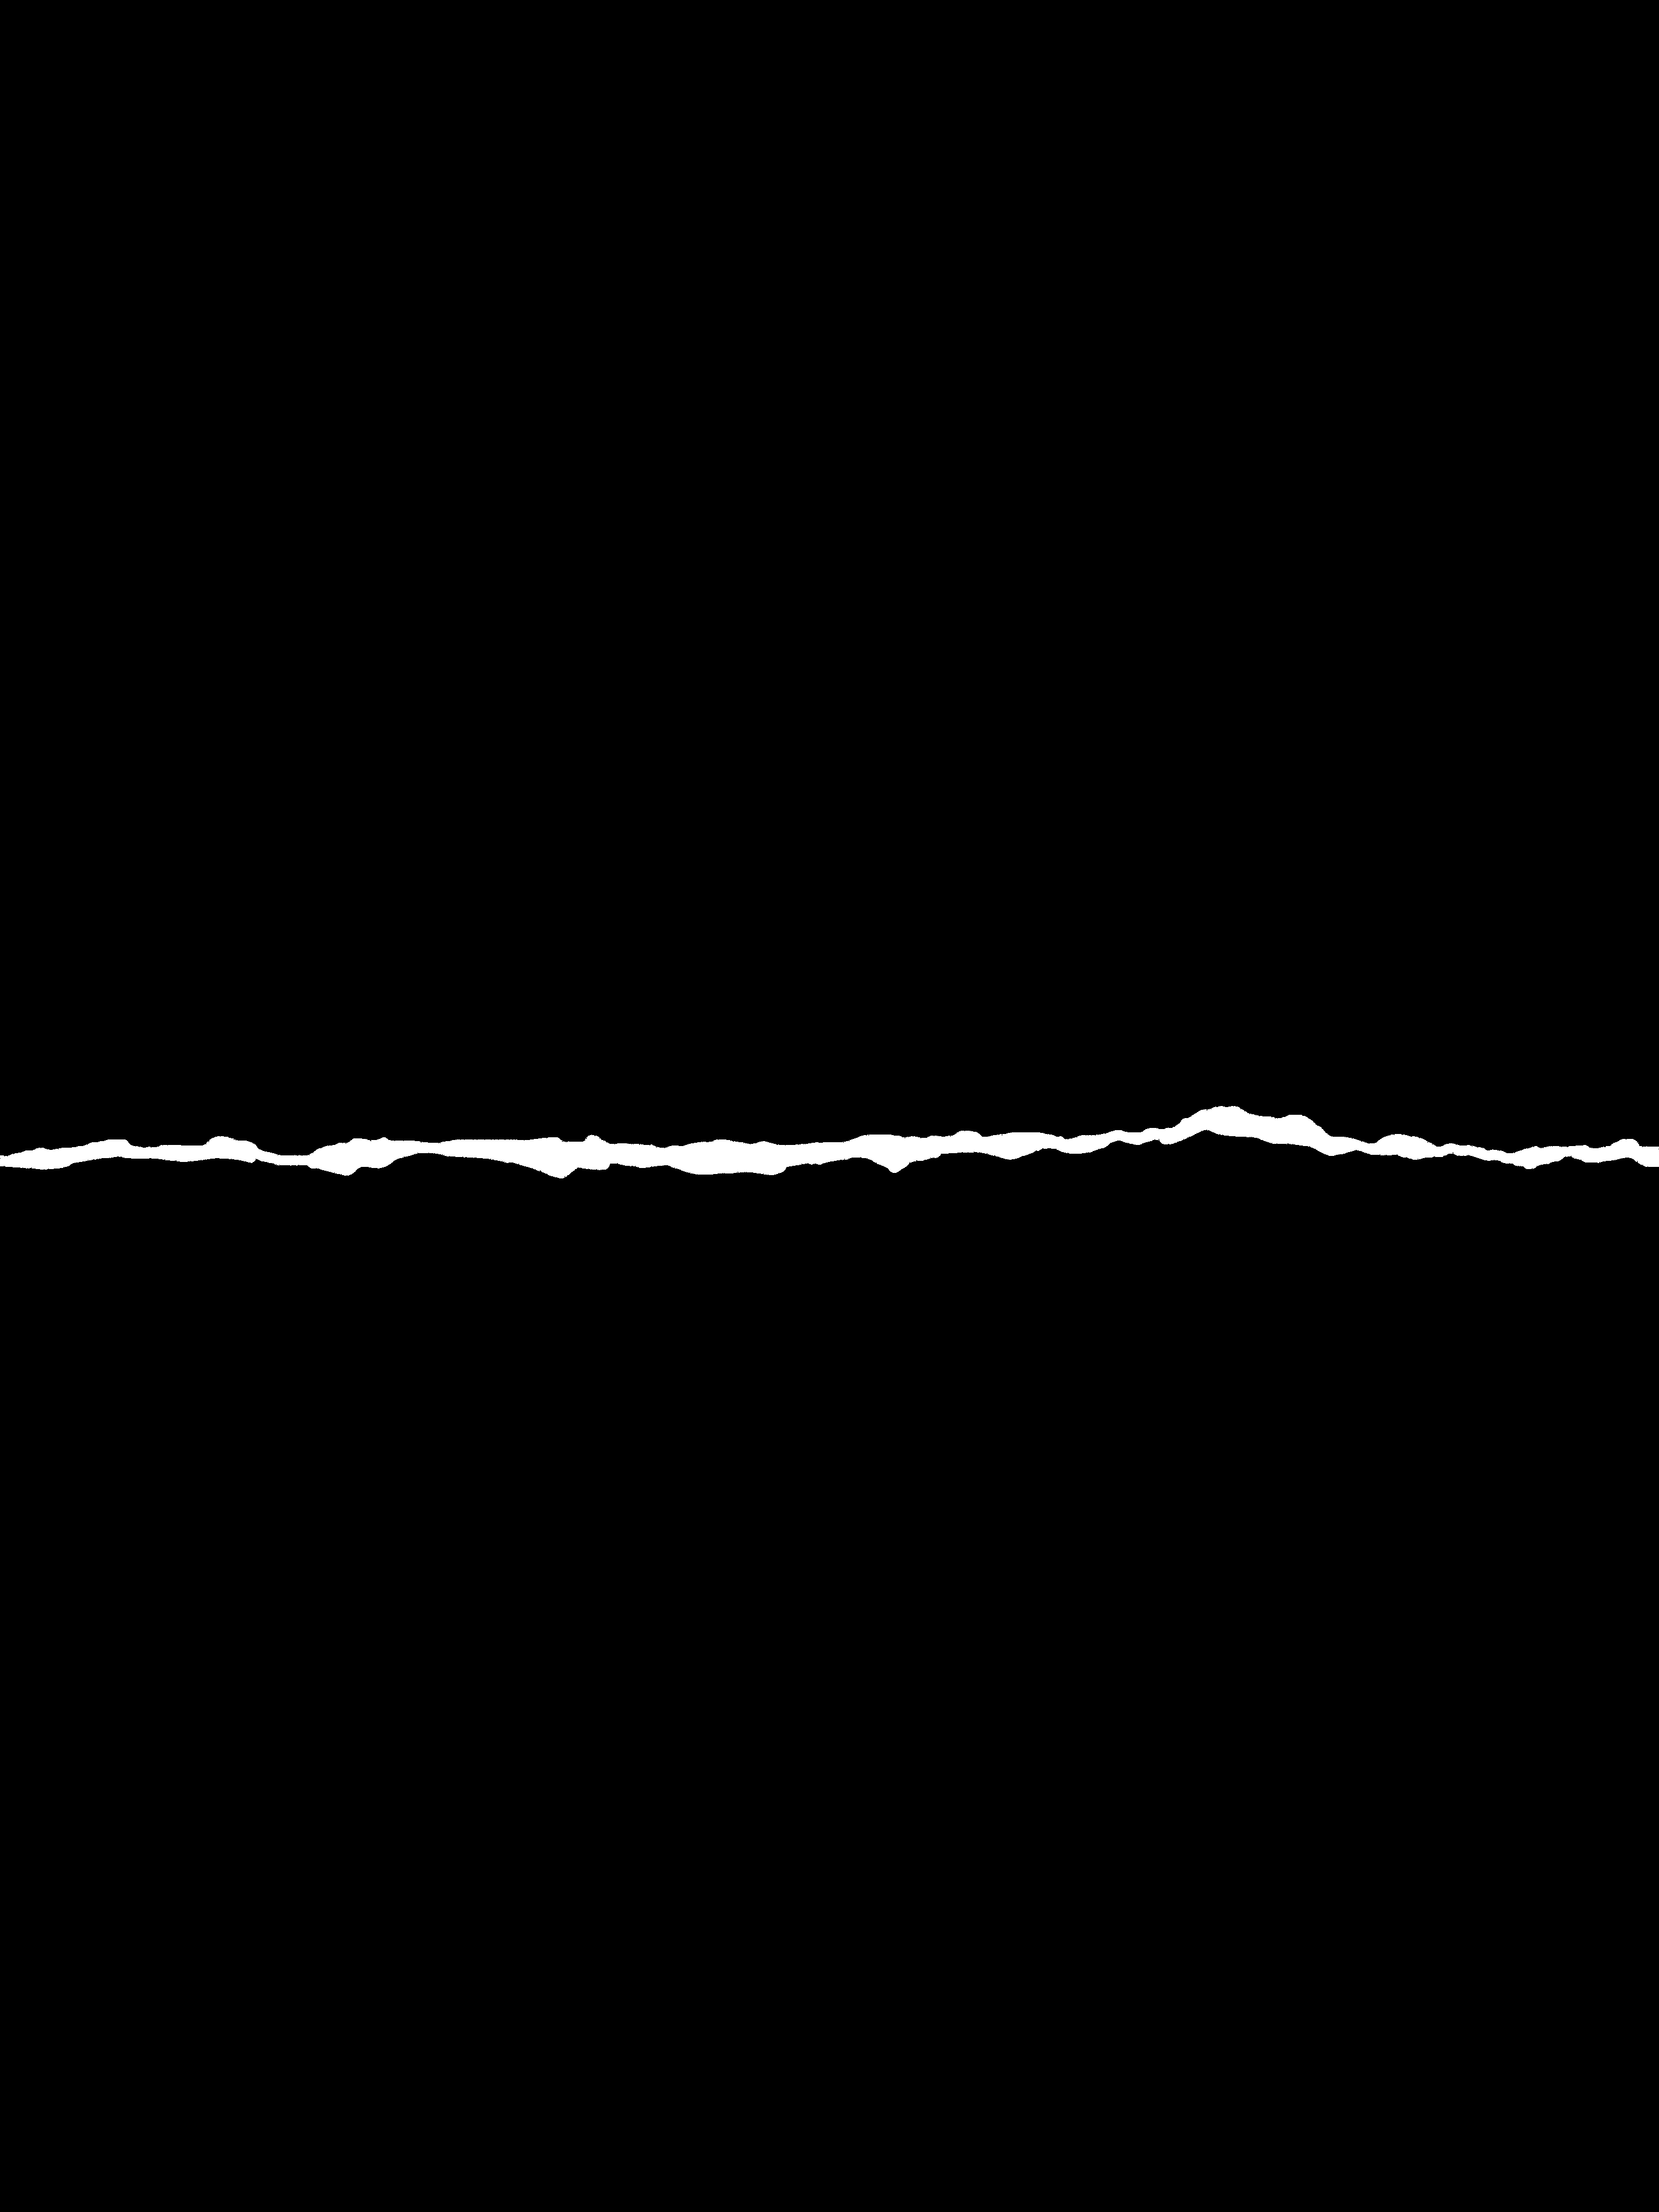Crack: (0, 1073, 1659, 1214)
